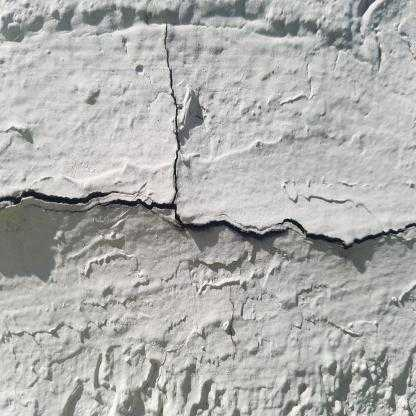crack: (24, 21, 291, 241), (287, 216, 415, 255), (3, 186, 113, 209)
